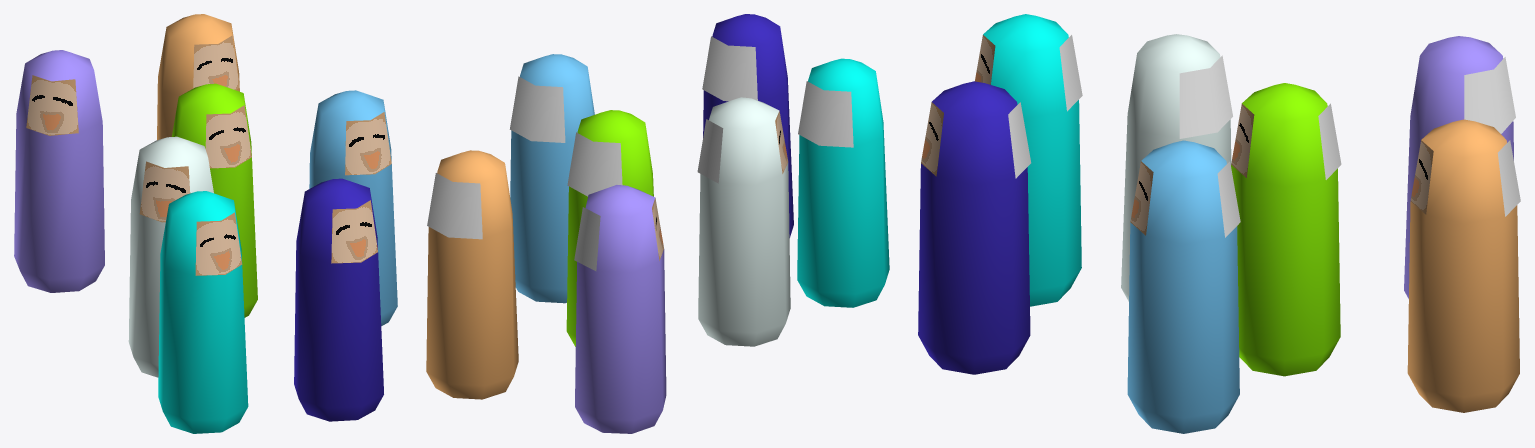
Rendered from M_MOB3.glb.
3 renders of one model, left to right at view 1: azimuth 30°, elevation 25°; view 2: azimuth 150°, elevation 25°; view 3: azimuth 270°, elevation 25°, orthographic. The views are drawn at different scales.
Parts seen in each view (by area): view 1: ROT; view 2: ROT; view 3: ROT.
Part boxes in pixels (<box>): ROT: <box>14,14,397,433</box>; ROT: <box>426,14,889,433</box>; ROT: <box>918,14,1520,433</box>.
Size of the model in its own units: 4.69 by 3.4 by 6.87.
3 materials, 3 textured.
